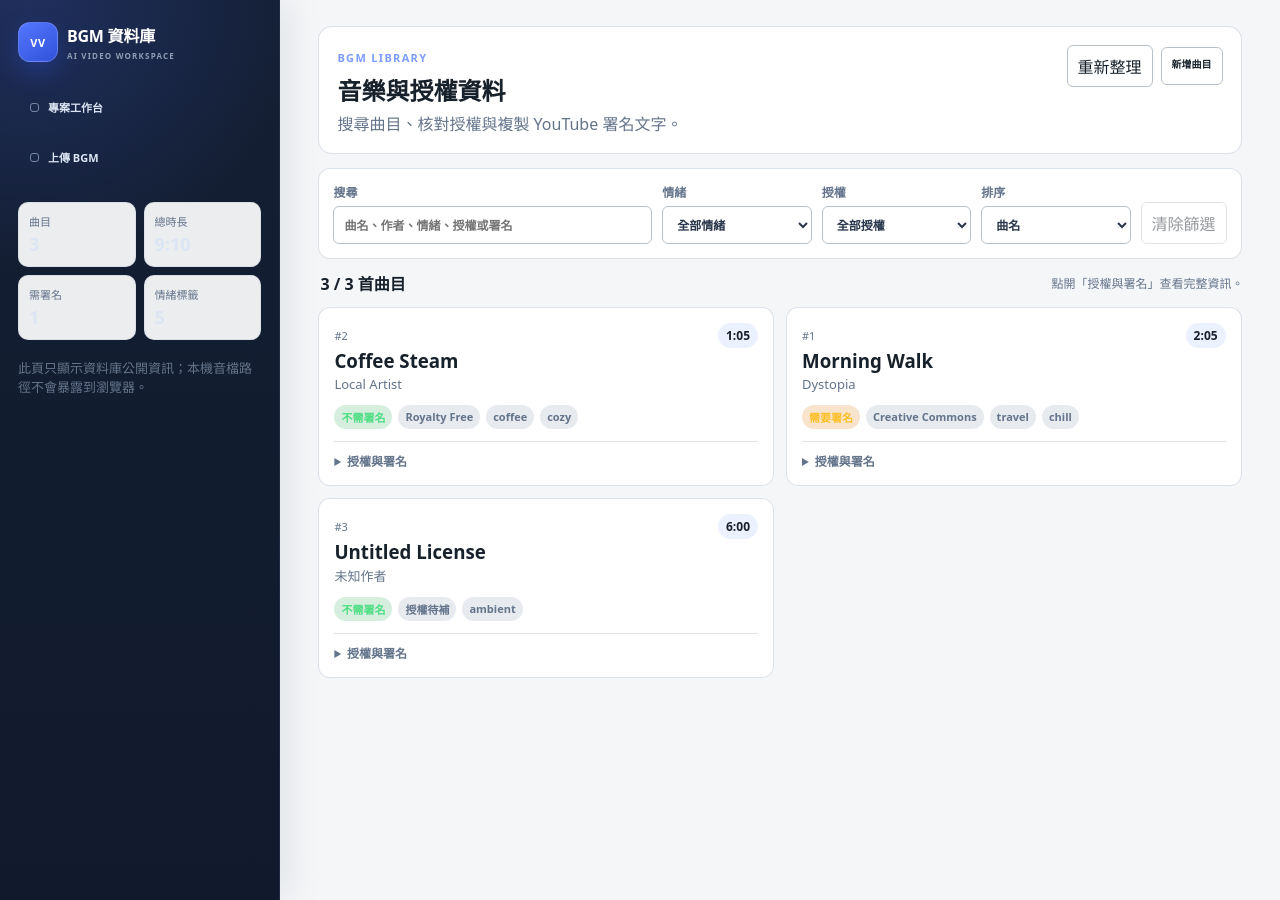
Test case: BgmLibraryPage › shows no-result state and clears all filters
expect the heading "Morning Walk" is shown: met, box [802, 348, 933, 373]
Type "不存在的曲目" into the search field named "搜尋 BGM" at (493, 225), box [333, 206, 652, 244]
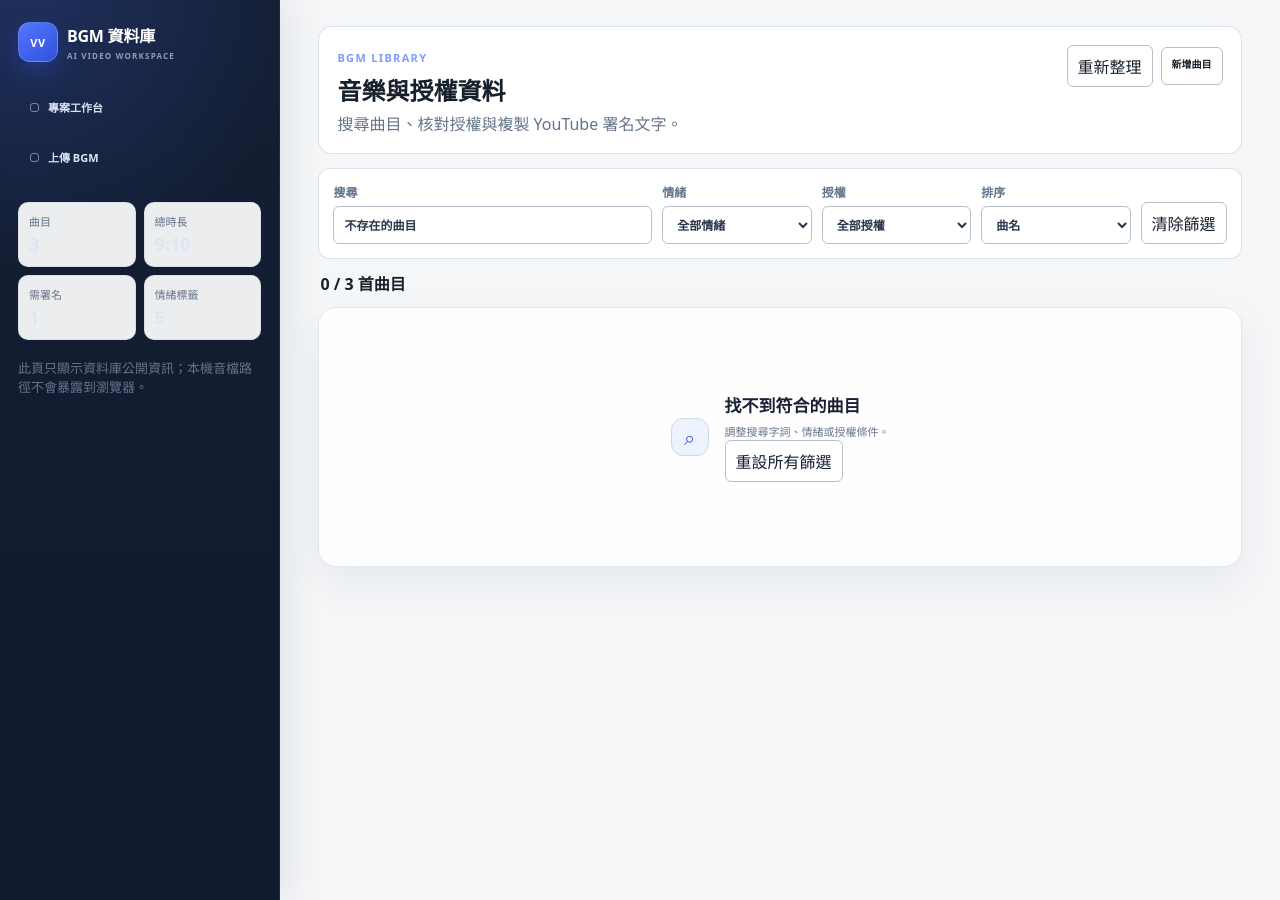
expect the heading "找不到符合的曲目" is shown: met, box [724, 394, 860, 417]
Click the button "清除篩選" at (1184, 223), box [1141, 202, 1227, 244]
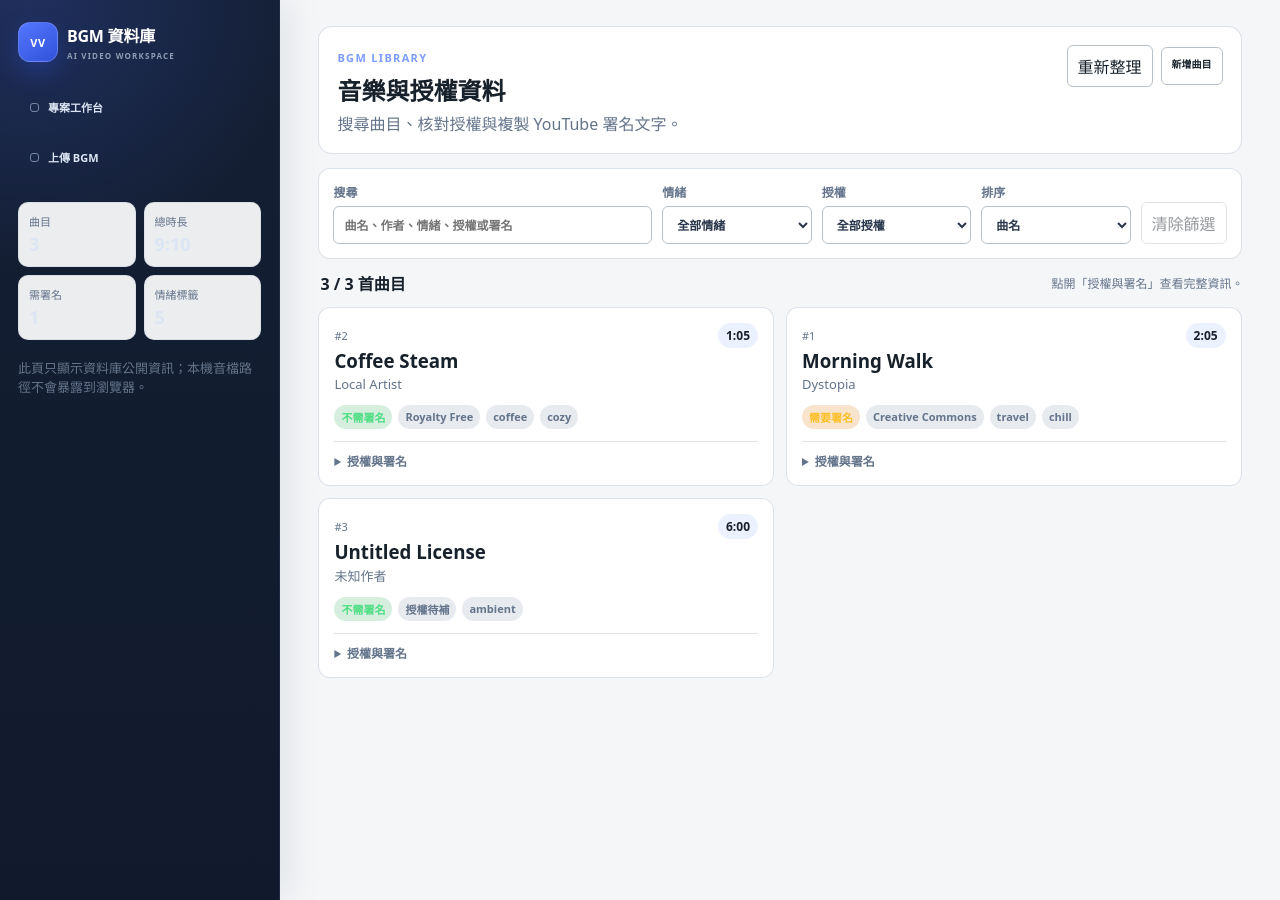
expect the heading "Morning Walk" is shown: met, box [802, 348, 933, 373]
